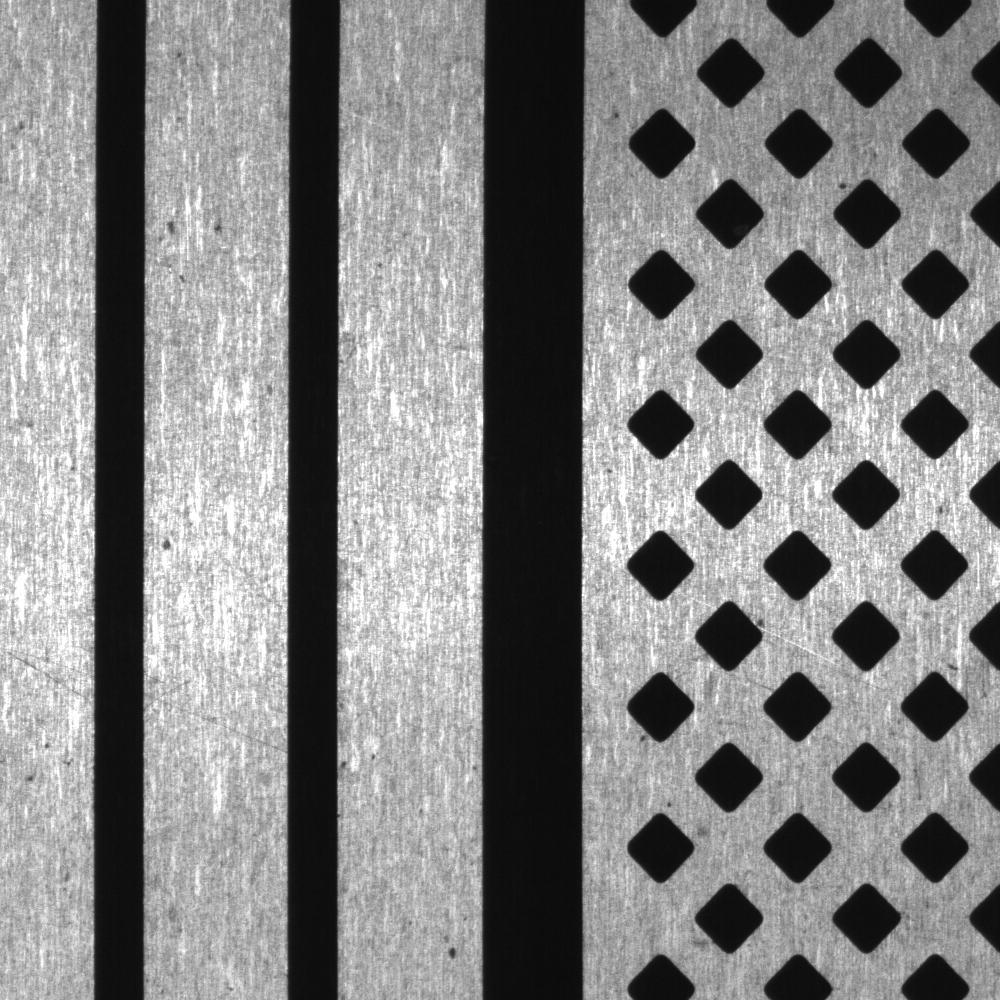Etching: (152, 204, 188, 242), (38, 737, 75, 770), (152, 528, 180, 563), (207, 208, 230, 240), (440, 938, 461, 968)
Scar: (143, 683, 286, 757), (1, 638, 91, 708), (762, 616, 834, 673)
